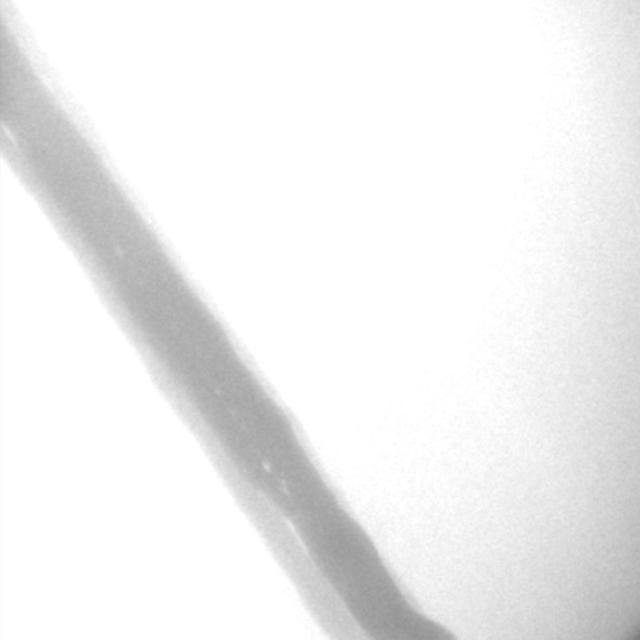air hole: (261, 461, 271, 475)
